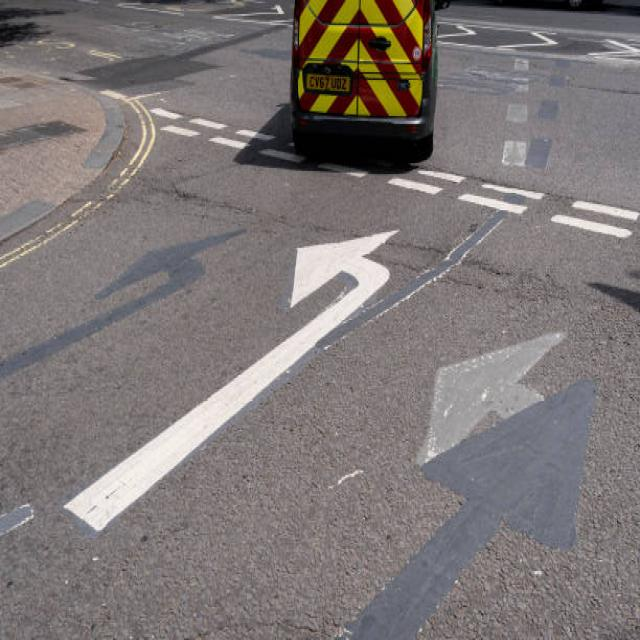Strelka vlevo: (62, 230, 399, 533)
